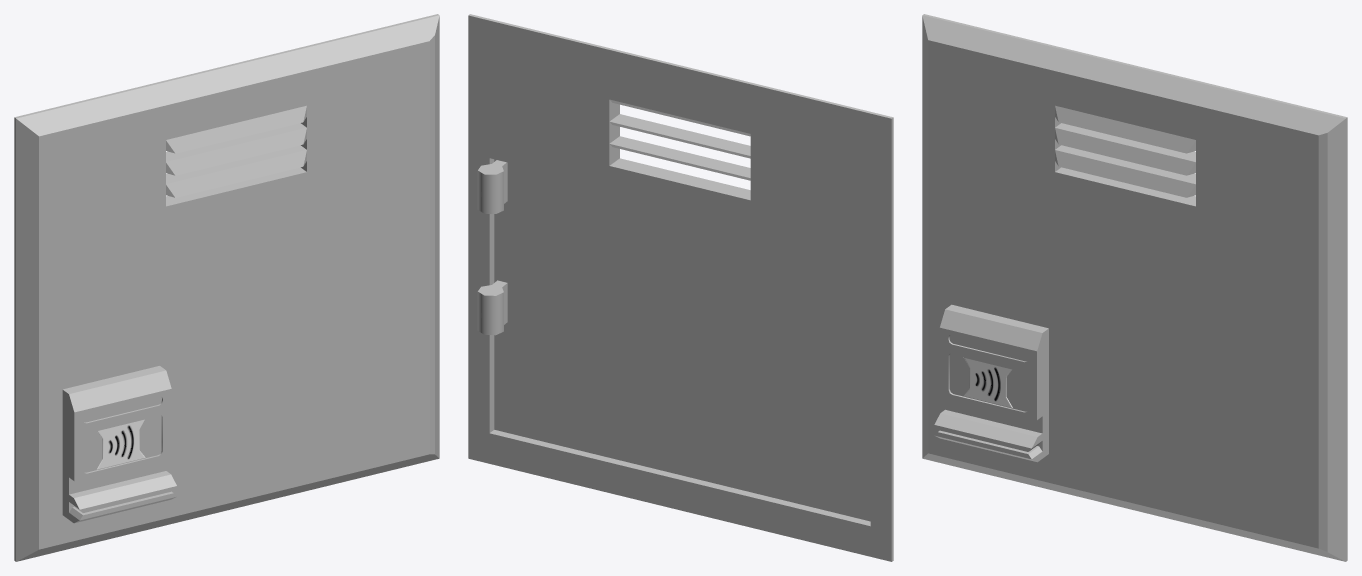
Rendered from Door.fbx.
3 views of the same model, side by side, from view 1: azimuth 30°, elevation 25°; view 2: azimuth 150°, elevation 25°; view 3: azimuth 330°, elevation 25° (orthographic).
Visible parts, largest first — view 1: Door, KeycardIdle; view 2: Door; view 3: Door, KeycardIdle.
Boxes of the visible parts, x1,y1,x2,y2 form: Door: [14, 14, 439, 561]; KeycardIdle: [96, 419, 145, 469]; Door: [468, 14, 893, 561]; Door: [922, 14, 1347, 561]; KeycardIdle: [963, 357, 1012, 407].
Size of the model in its own units: 0.965 by 0.9653 by 0.164.
